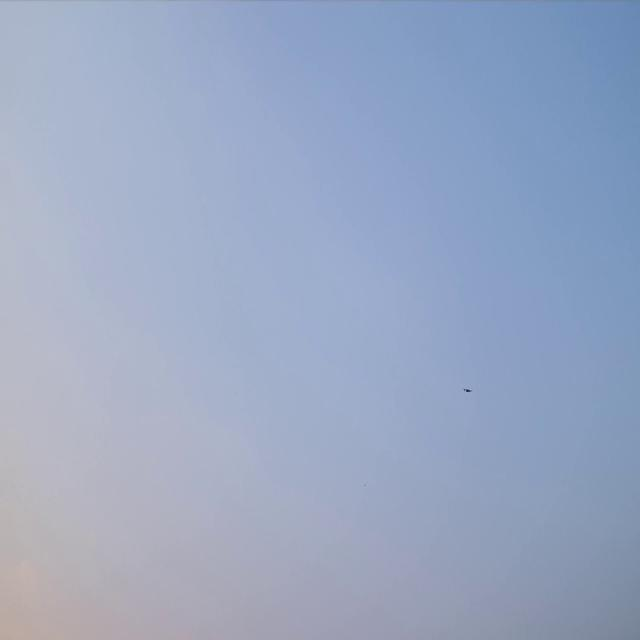UAV: (462, 386, 474, 394)
